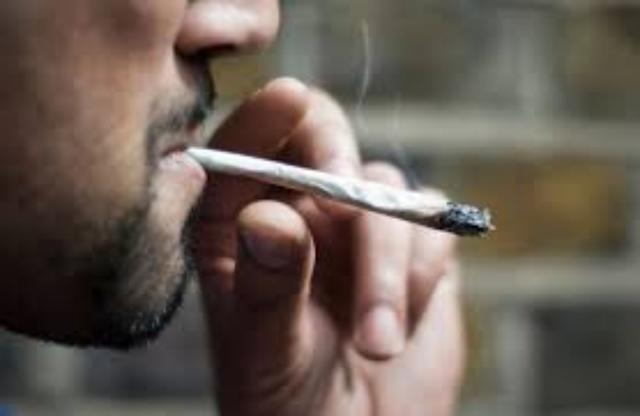Cigarette: (187, 147, 496, 239)
